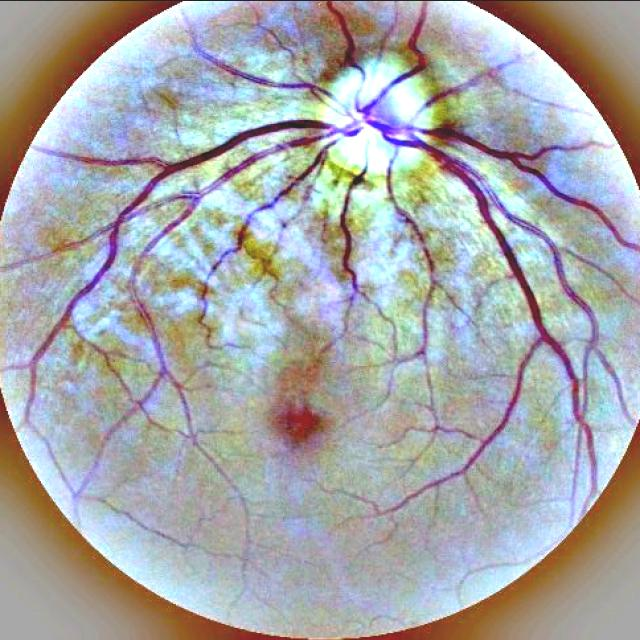Macula: (278, 406, 324, 446)
Optic Disk: (315, 50, 452, 185)
